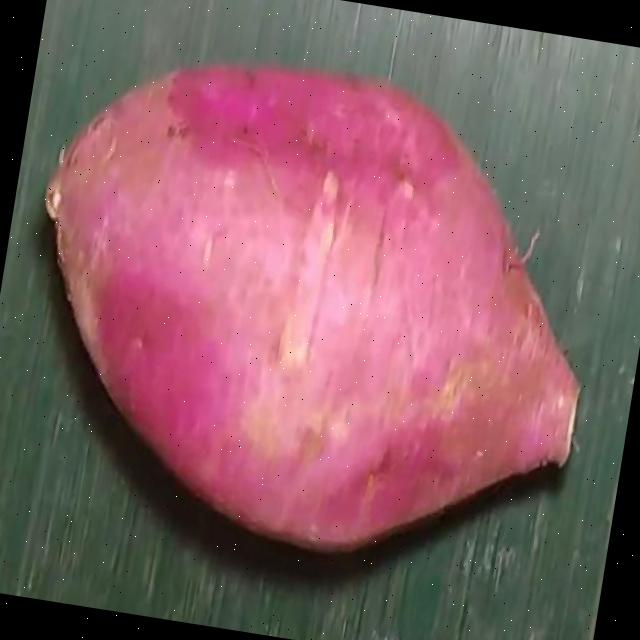Sweet Potato: (45, 62, 584, 552)
